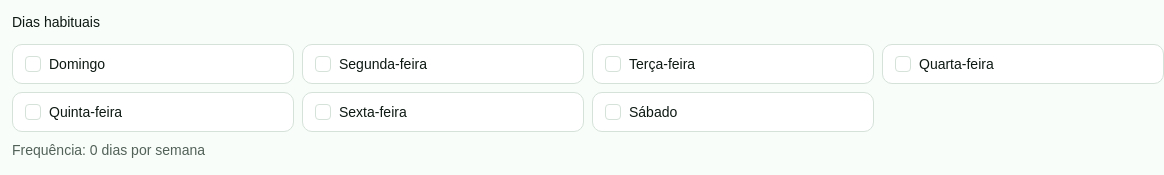
Scenario: WeekdayCheckboxGroup › atualiza a frequência exibida ao marcar e desmarcar dias
Expected: the message reads "Frequência: 0 dias por semana", [12, 142, 205, 158]
Click the checkbox named "Segunda-feira" next to "Segunda-feira". click: (323, 64)
box: [315, 56, 331, 72]
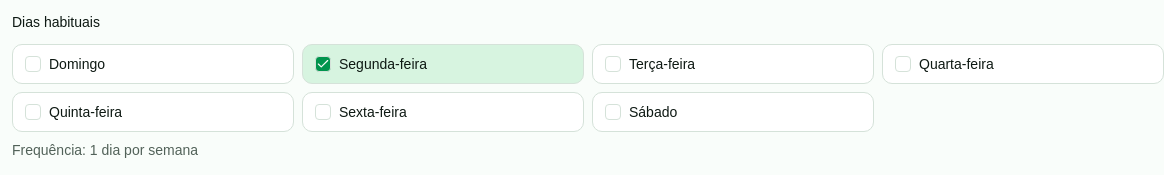
Expected: the message reads "Frequência: 1 dia por semana", [12, 142, 198, 158]
Click the checkbox named "Quarta-feira" next to "Quarta-feira". click: (903, 64)
box: [895, 56, 911, 72]
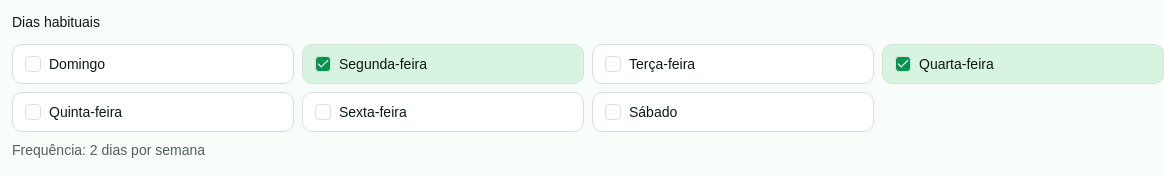
Expected: the message reads "Frequência: 2 dias por semana", [12, 142, 205, 158]
Click the checkbox named "Segunda-feira" next to "Segunda-feira". click: (323, 64)
box: [315, 56, 331, 72]
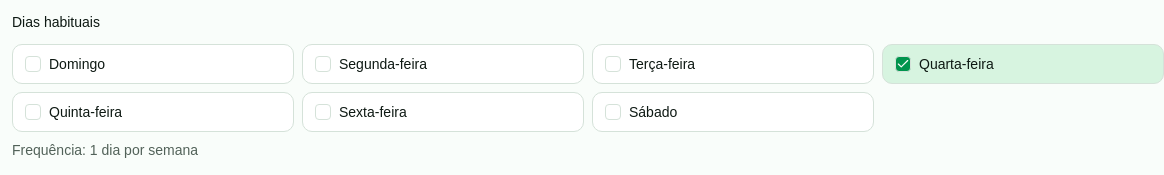
Expected: the message reads "Frequência: 1 dia por semana", [12, 142, 198, 158]
